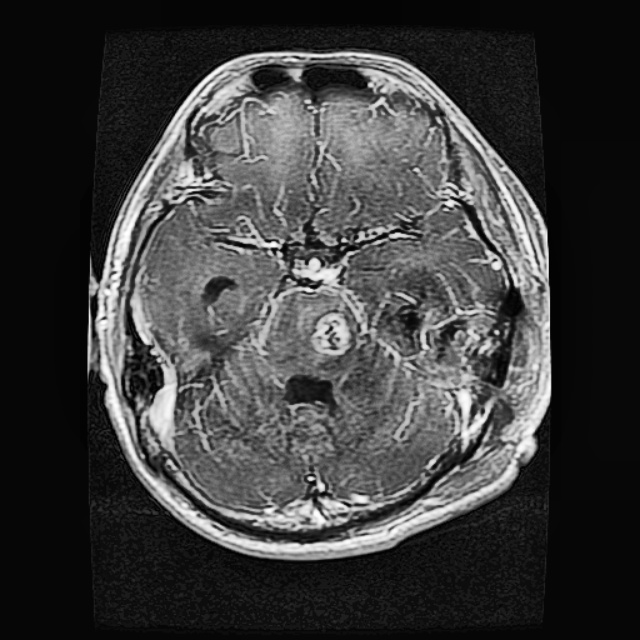Pituitary: (309, 310, 349, 355)
